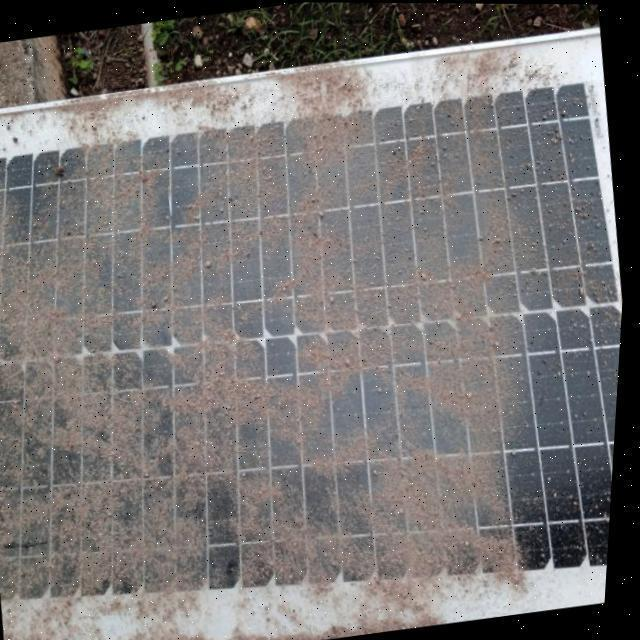Surface Contaminant: (0, 41, 624, 640)
